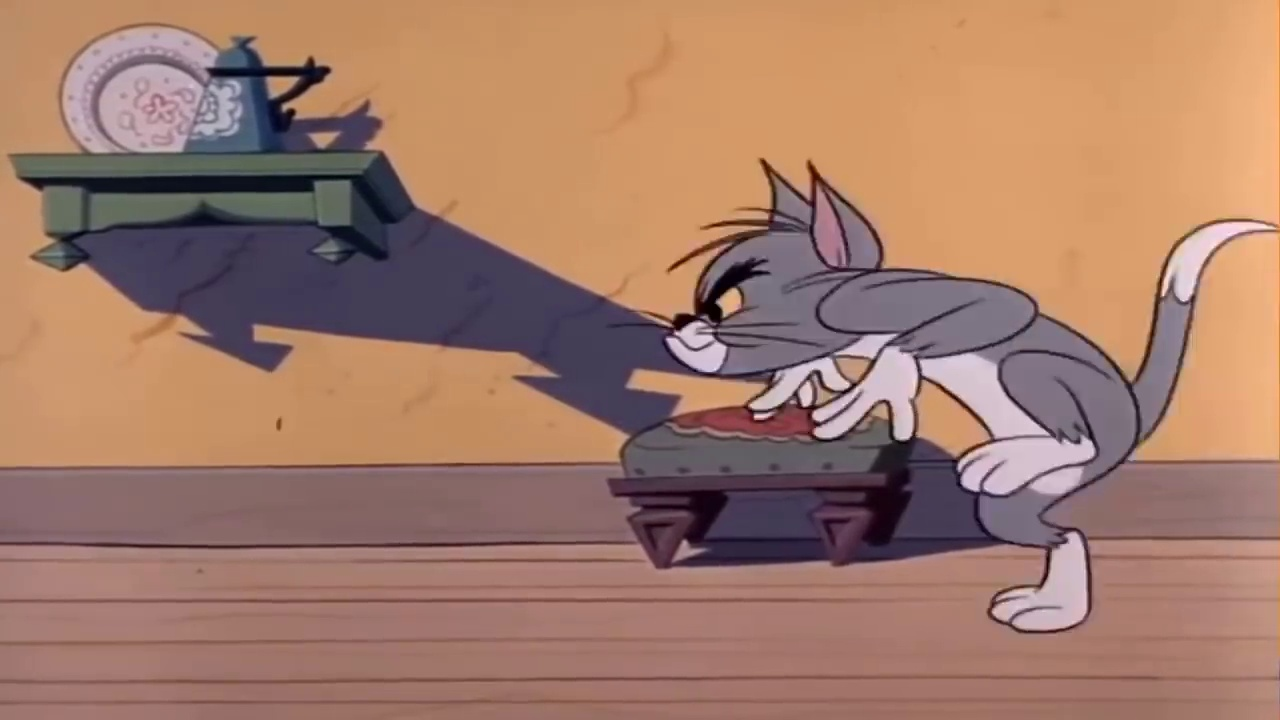face: (662, 260, 784, 373)
